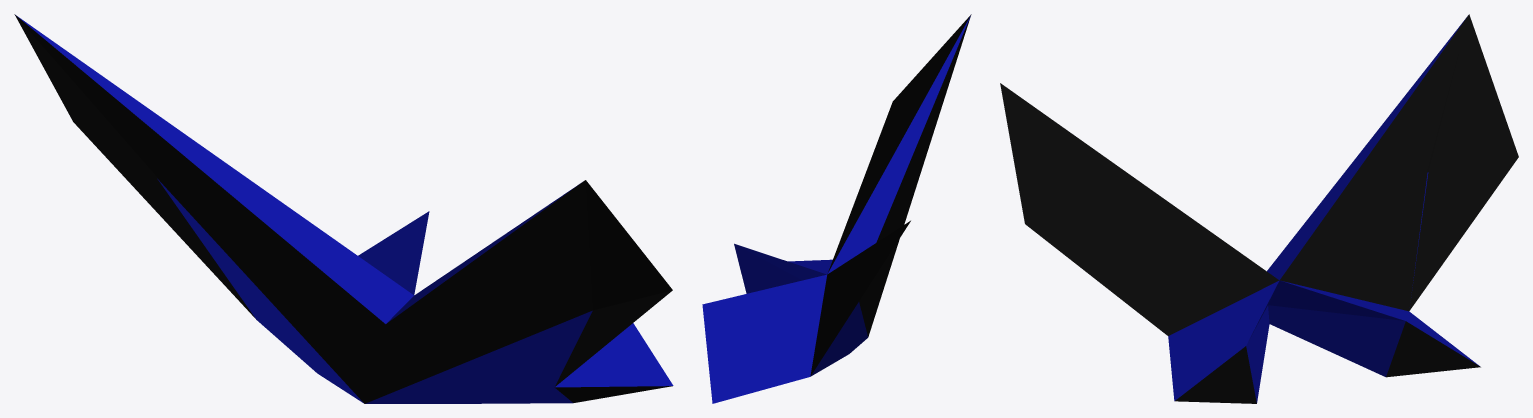
The model's file is butterfly3.obj.
3 views of the same model, side by side, from view 1: azimuth 30°, elevation 25°; view 2: azimuth 150°, elevation 25°; view 3: azimuth 270°, elevation 25° (orthographic). The views are drawn at different scales.
Visible parts, largest first — view 1: Cube; view 2: Cube; view 3: Cube.
Boxes of the visible parts, box(x1,y1,x2,y2) form: Cube: box(14, 14, 673, 403); Cube: box(702, 14, 971, 403); Cube: box(1000, 14, 1518, 403).
Size of the model in its own units: 1.45 by 1.18 by 2.04.
